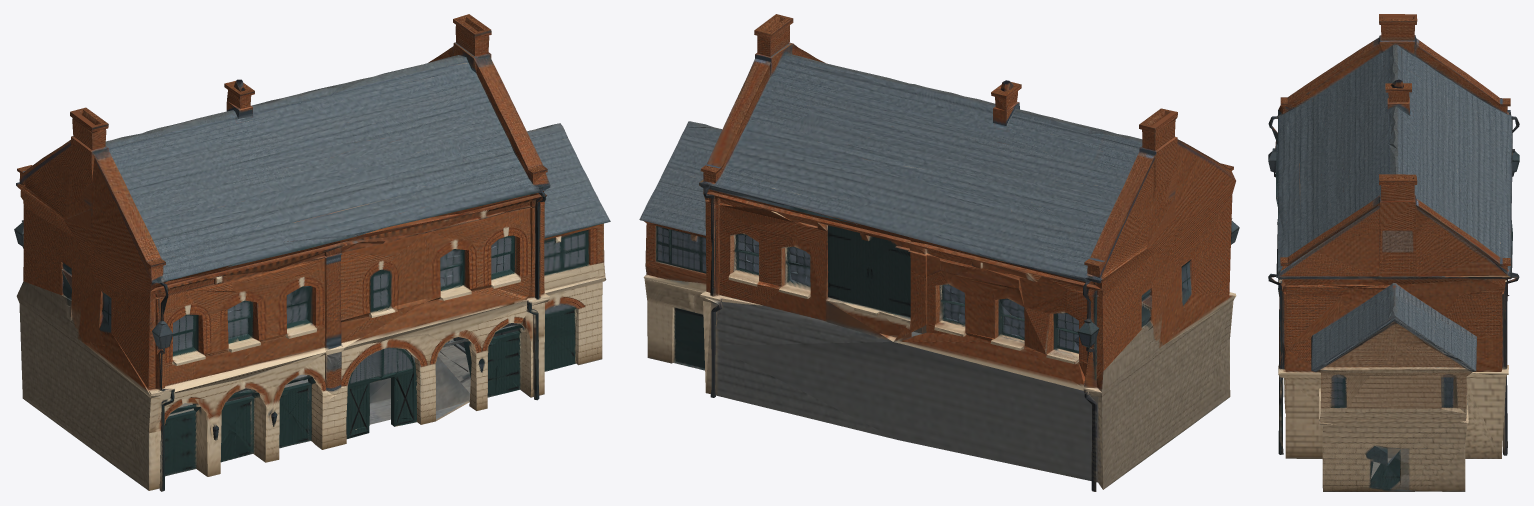
The model's file is warehouse.glb.
The picture shows the model from 3 angles, left to right: view 1: azimuth 30°, elevation 25°; view 2: azimuth 150°, elevation 25°; view 3: azimuth 270°, elevation 25°; orthographic projection. The views are drawn at different scales.
Size of the model in its own units: 1.9 by 1.23 by 1.01.
1 material, 1 textured.
